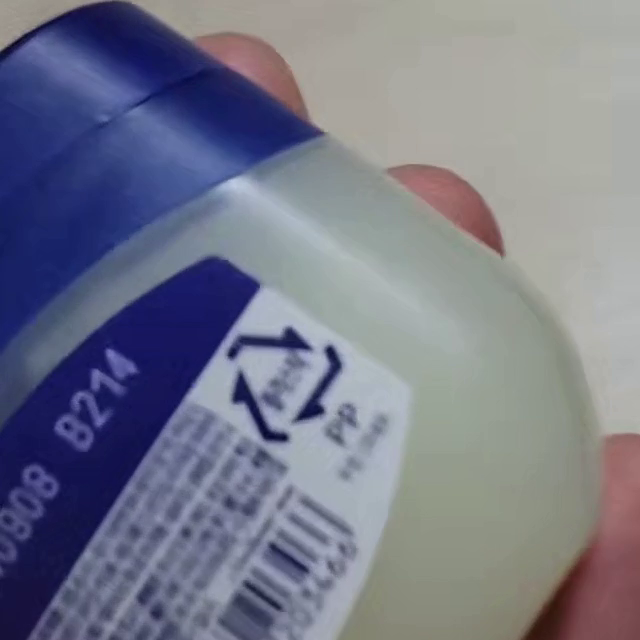Plastic: (228, 325, 343, 445)
